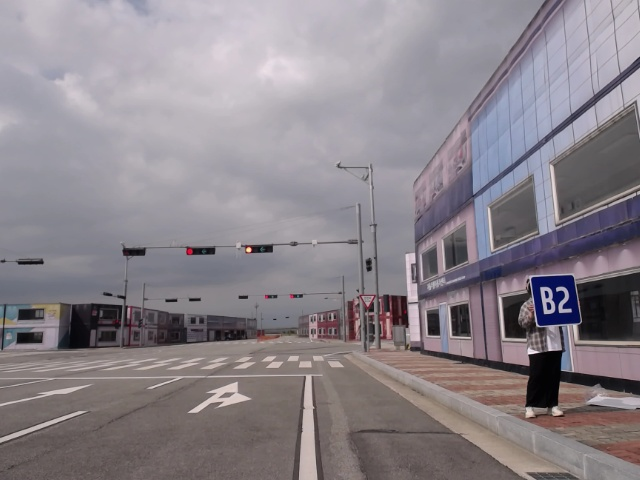delivery_b2: (526, 272, 586, 326)
left_green_4: (186, 244, 217, 258), (244, 243, 273, 253), (289, 292, 305, 300), (264, 294, 279, 300)
